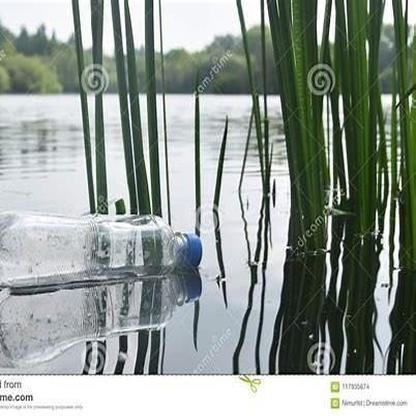plastic bottle: (1, 210, 202, 277)
